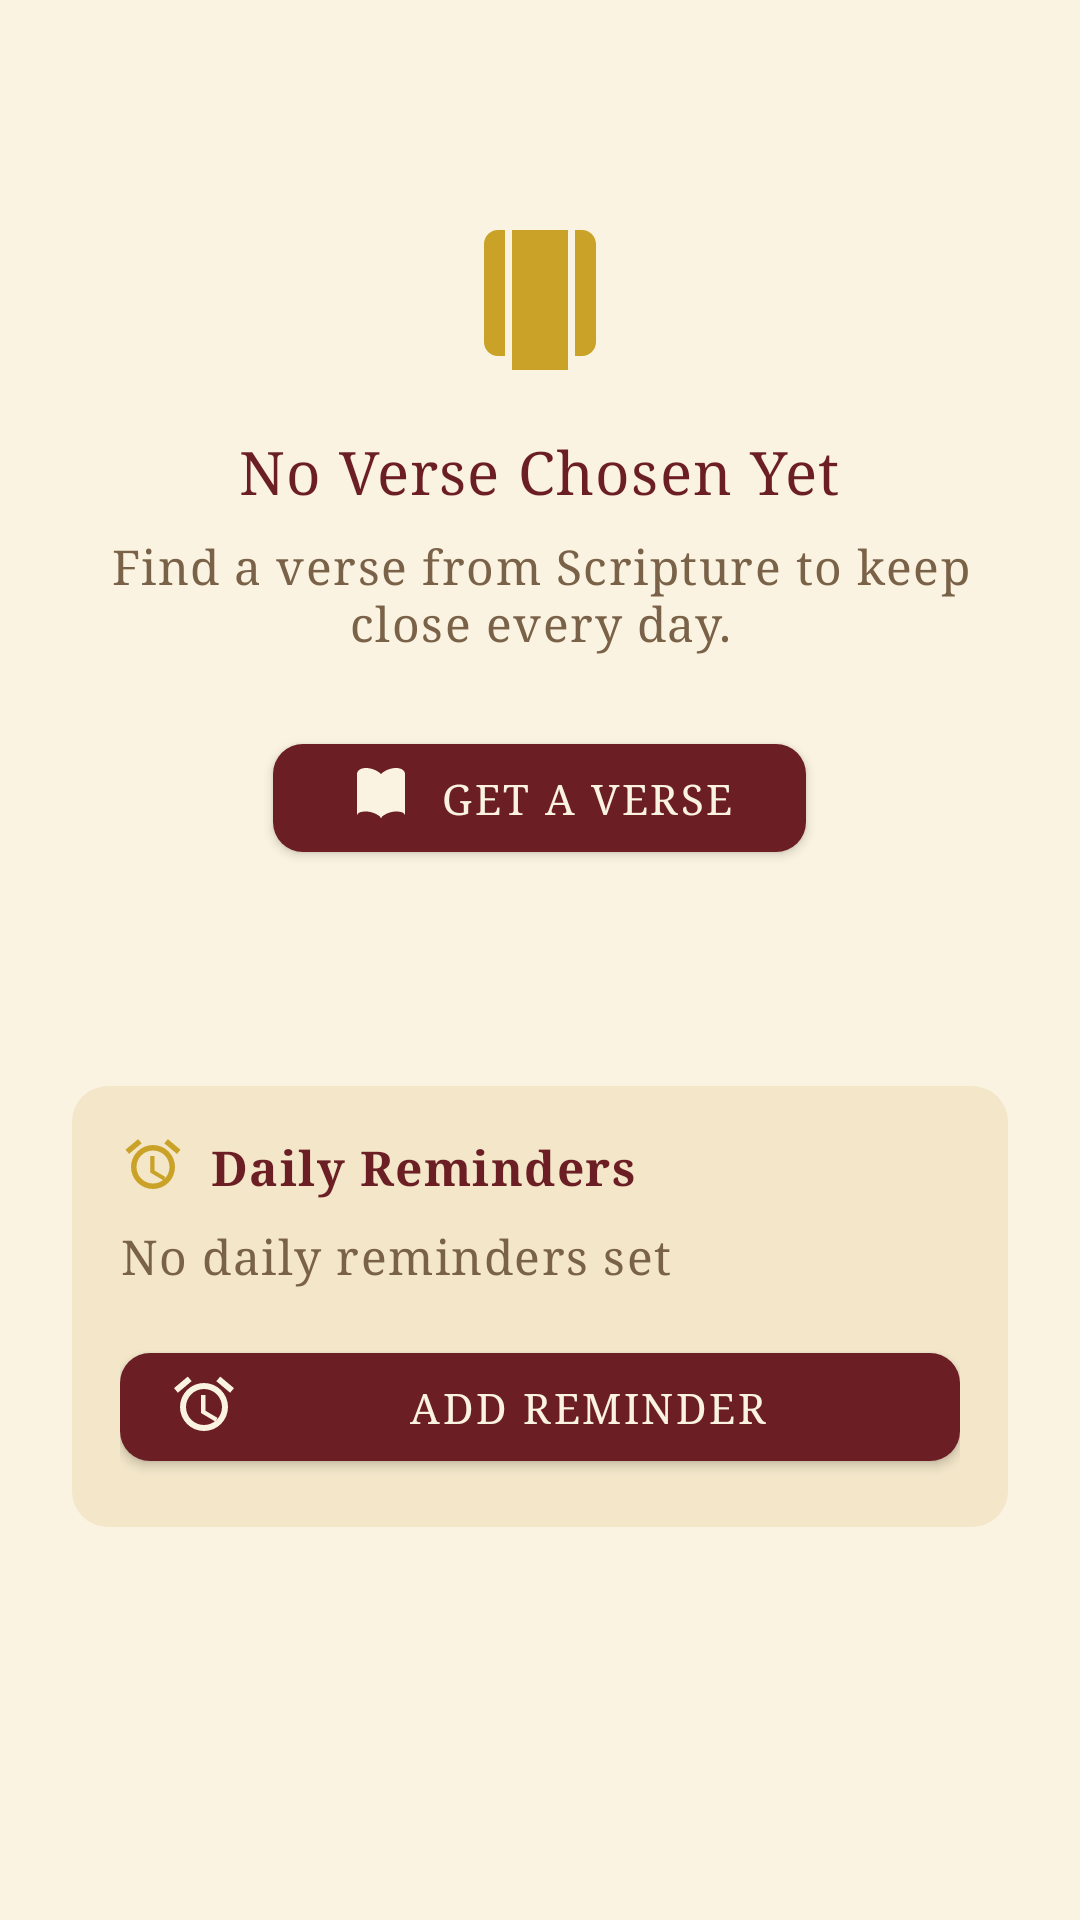

Screen size 1080 × 1920. Icon name, then its center in pixels as point (x, y):
Alarm: point (153, 1164)
